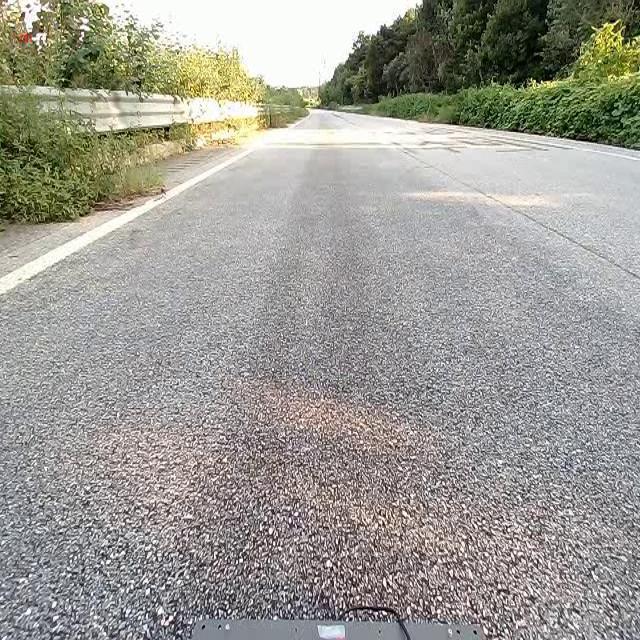Lane: (0, 137, 264, 301), (0, 144, 257, 295)
